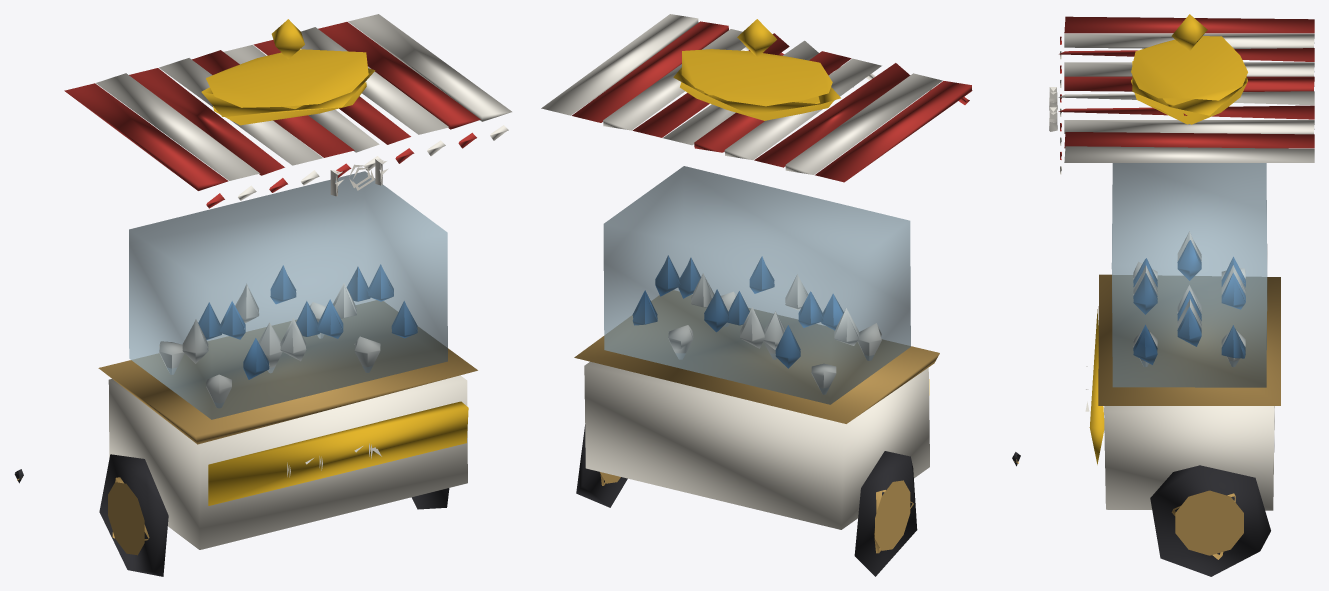
Rendered from lod_popcorn_cart.glb.
3 views of the same model, side by side, from view 1: azimuth 30°, elevation 25°; view 2: azimuth 150°, elevation 25°; view 3: azimuth 270°, elevation 25° (orthographic). The views are drawn at different scales.
Parts seen in each view (by area): view 1: popcorn_cart; view 2: popcorn_cart; view 3: popcorn_cart.
Boxes of the visible parts, x1,y1,x2,y2 form: popcorn_cart: (14, 14, 511, 576); popcorn_cart: (541, 14, 1020, 576); popcorn_cart: (1049, 14, 1314, 576).
Size of the model in its own units: 2.32 by 2.75 by 1.33.
